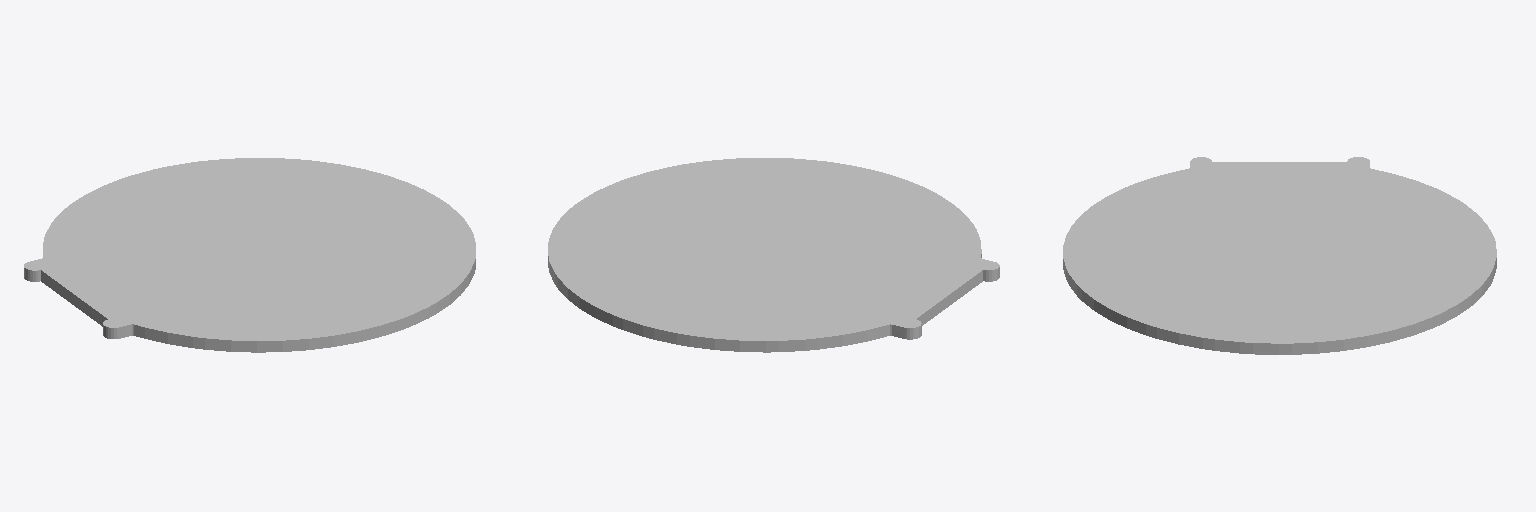
Rendered from proxminecol.obj.
3 views of the same model, side by side, from view 1: azimuth 30°, elevation 25°; view 2: azimuth 150°, elevation 25°; view 3: azimuth 270°, elevation 25° (orthographic).
Parts seen in each view (by area): view 1: STL_object_STL_object_auv; view 2: STL_object_STL_object_auv; view 3: STL_object_STL_object_auv.
Part boxes in pixels (x1,y1,x2,y2): STL_object_STL_object_auv: (24,158,475,352); STL_object_STL_object_auv: (548,158,999,352); STL_object_STL_object_auv: (1063,157,1496,354).
Bounding box in the file's own units: 7.03 × 0.2 × 6.89.